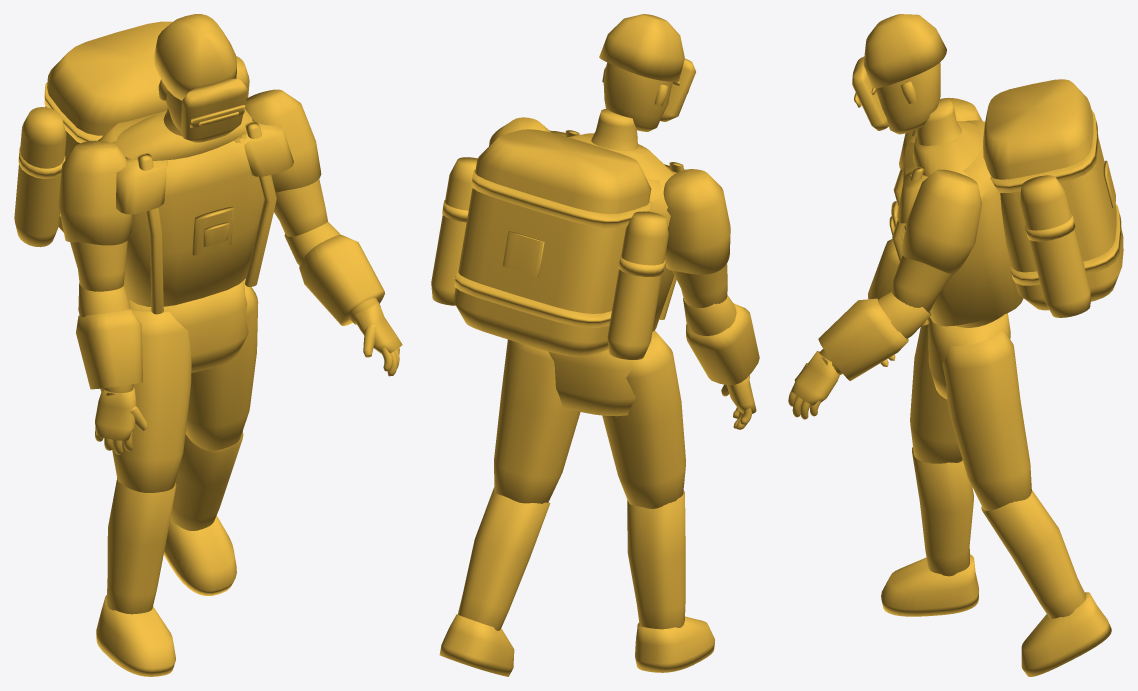
The model's file is enemy-lab-gilded.glb.
3 renders of one model, left to right at view 1: azimuth 30°, elevation 25°; view 2: azimuth 150°, elevation 25°; view 3: azimuth 270°, elevation 25°, orthographic. The views are drawn at different scales.
Visible parts, largest first — view 1: Gold specimen vest, Specimen strongbox, Trouser thigh_L, Trouser shin_L, Short sleeve_L, Trouser thigh_R, Gold specimen canister_-1, Gilded recovery hood, Gilded forearm guard_1, Waist, Gilded forearm guard_-1, Shoe_L (+17 smaller); view 2: Specimen strongbox, Trouser thigh_R, Trouser thigh_L, Trouser shin_R, Trouser shin_L, Short sleeve_L, Gold specimen canister_-1, Waist, Gilded recovery hood, Gilded forearm guard_-1, Shoe_L, Gold specimen canister_1 (+14 smaller); view 3: Specimen strongbox, Trouser thigh_R, Gold specimen vest, Trouser shin_R, Short sleeve_R, Gold specimen canister_1, Trouser shin_L, Gilded recovery hood, Shoe_L, Gilded forearm guard_1, Shoe_R, Trouser thigh_L (+14 smaller).
Boxes of the visible parts, bbox=[...] form: Gold specimen vest: bbox=[98, 110, 264, 306]; Specimen strongbox: bbox=[45, 21, 171, 232]; Trouser thigh_L: bbox=[112, 310, 191, 492]; Trouser shin_L: bbox=[106, 478, 176, 614]; Short sleeve_L: bbox=[58, 140, 131, 245]; Trouser thigh_R: bbox=[185, 279, 258, 450]; Gold specimen canister_-1: bbox=[14, 107, 66, 247]; Gilded recovery hood: bbox=[153, 14, 236, 100]; Gilded forearm guard_1: bbox=[299, 234, 384, 325]; Waist: bbox=[129, 281, 248, 372]; Gilded forearm guard_-1: bbox=[76, 309, 142, 389]; Shoe_L: bbox=[96, 595, 175, 676]; Specimen strongbox: bbox=[453, 129, 651, 357]; Trouser thigh_R: bbox=[494, 339, 580, 503]; Trouser thigh_L: bbox=[602, 331, 685, 508]; Trouser shin_R: bbox=[458, 487, 550, 630]; Trouser shin_L: bbox=[627, 491, 685, 629]; Short sleeve_L: bbox=[663, 169, 730, 274]; Gold specimen canister_-1: bbox=[607, 211, 668, 359]; Waist: bbox=[548, 337, 651, 416]; Gilded recovery hood: bbox=[599, 14, 684, 81]; Gilded forearm guard_-1: bbox=[686, 303, 759, 385]; Shoe_L: bbox=[635, 616, 714, 672]; Gold specimen canister_1: bbox=[431, 157, 477, 305]; Specimen strongbox: bbox=[983, 79, 1123, 310]; Trouser thigh_R: bbox=[942, 329, 1031, 510]; Gold specimen vest: bbox=[903, 120, 1023, 326]; Trouser shin_R: bbox=[981, 490, 1086, 618]; Short sleeve_R: bbox=[901, 169, 981, 273]; Gold specimen canister_1: bbox=[1019, 175, 1090, 317]; Trouser shin_L: bbox=[912, 447, 973, 576]; Gilded recovery hood: bbox=[863, 14, 946, 88]; Shoe_L: bbox=[881, 554, 979, 616]; Gilded forearm guard_1: bbox=[818, 298, 908, 380]; Shoe_R: bbox=[1021, 592, 1111, 676]; Trouser thigh_L: bbox=[910, 317, 962, 463].
Bounding box in the file's own units: 0.7459 × 1.72 × 0.8505.
